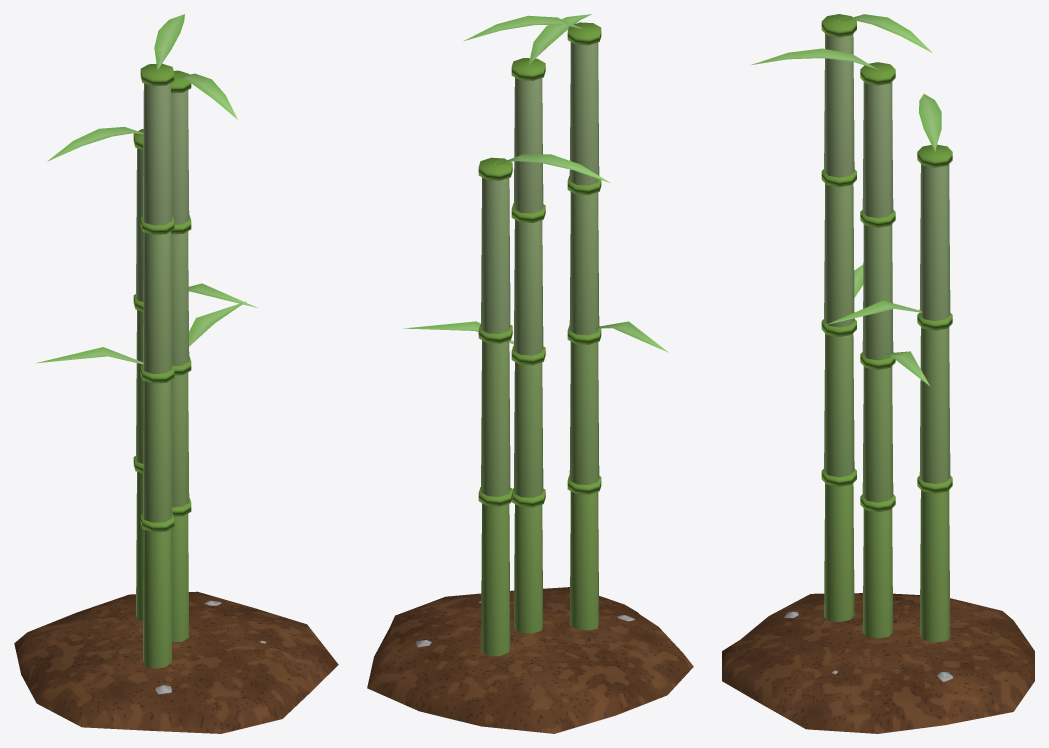
File: plant-bamboo-2.glb
The picture shows the model from 3 angles, left to right: view 1: azimuth 30°, elevation 25°; view 2: azimuth 150°, elevation 25°; view 3: azimuth 270°, elevation 25°; orthographic projection.
Visible parts, largest first — view 1: plant-bamboo-2; view 2: plant-bamboo-2; view 3: plant-bamboo-2.
Part boxes in pixels (x1,y1,x2,y2): plant-bamboo-2: (14,14,338,733); plant-bamboo-2: (367,14,693,733); plant-bamboo-2: (722,14,1034,733).
Bounding box in the file's own units: 0.8468 × 1.86 × 0.8189.
4 materials, 2 textured.
